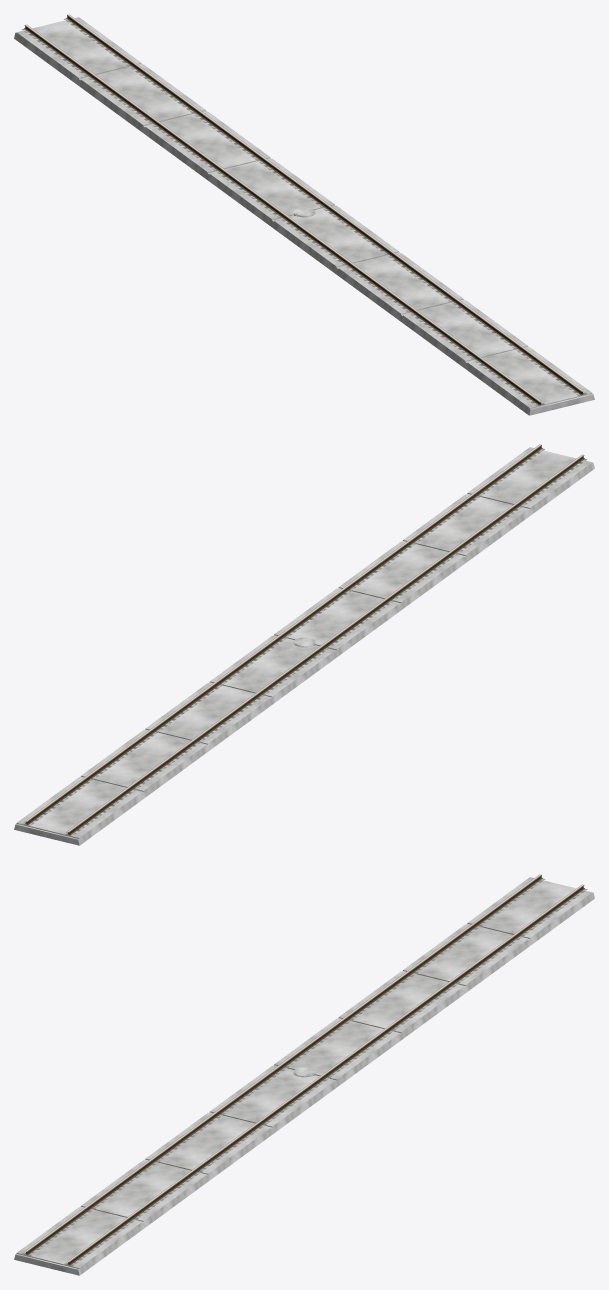
The model's file is HT_1RAIL_KONKURI100.glb.
3 renders of one model, top to bottom at view 1: azimuth 30°, elevation 25°; view 2: azimuth 150°, elevation 25°; view 3: azimuth 330°, elevation 25°, orthographic.
Parts seen in each view (by area): view 1: obj6; view 2: obj6; view 3: obj6.
Part boxes in pixels (box(x1,y1,x2,y2)): obj6: box(14, 14, 594, 415); obj6: box(14, 444, 594, 845); obj6: box(14, 874, 594, 1275).
Size of the model in its own units: 7.36 by 1.19 by 100.
Materials: 5 (5 with a texture image).
